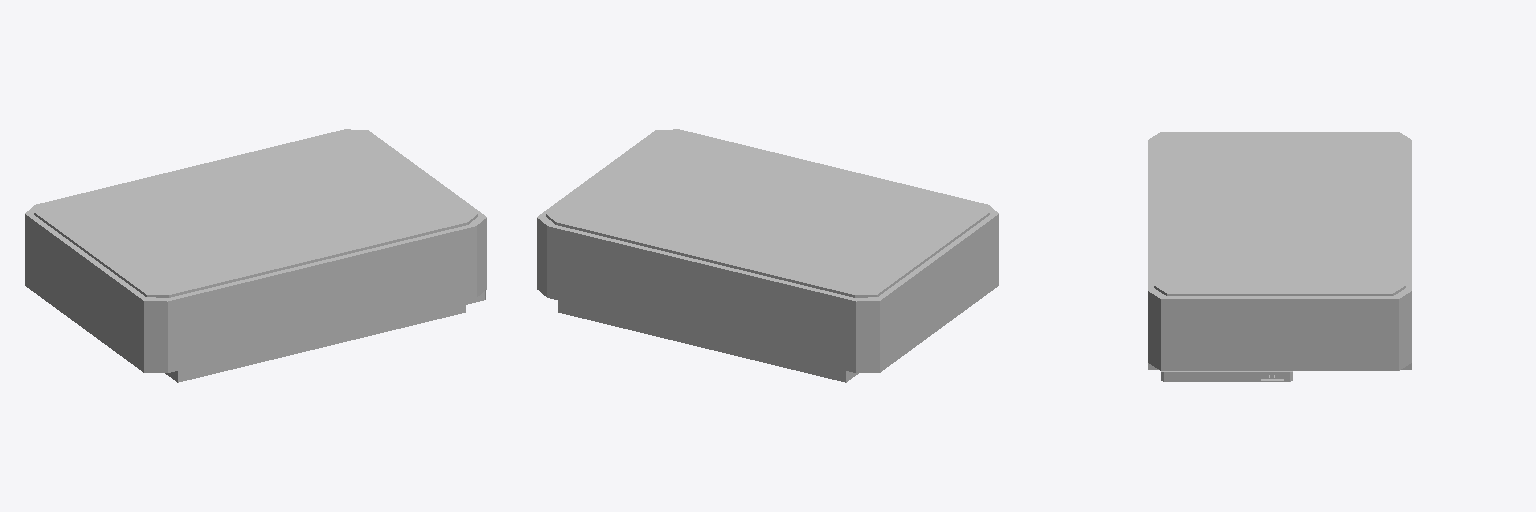
File: hdd.obj
3 views of the same model, side by side, from view 1: azimuth 30°, elevation 25°; view 2: azimuth 150°, elevation 25°; view 3: azimuth 270°, elevation 25° (orthographic).
Parts seen in each view (by area): view 1: Cube; view 2: Cube; view 3: Cube.
Part boxes in pixels (x1,y1,x2,y2): Cube: (25,129,486,382); Cube: (537,129,998,382); Cube: (1148,132,1411,381).
Bounding box in the file's own units: 3 × 0.7225 × 2.